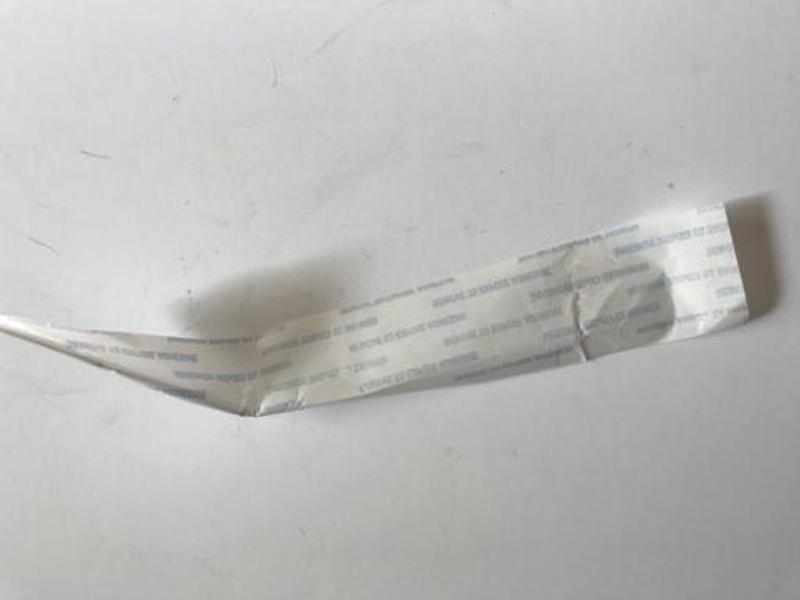paper: (1, 197, 756, 421)
